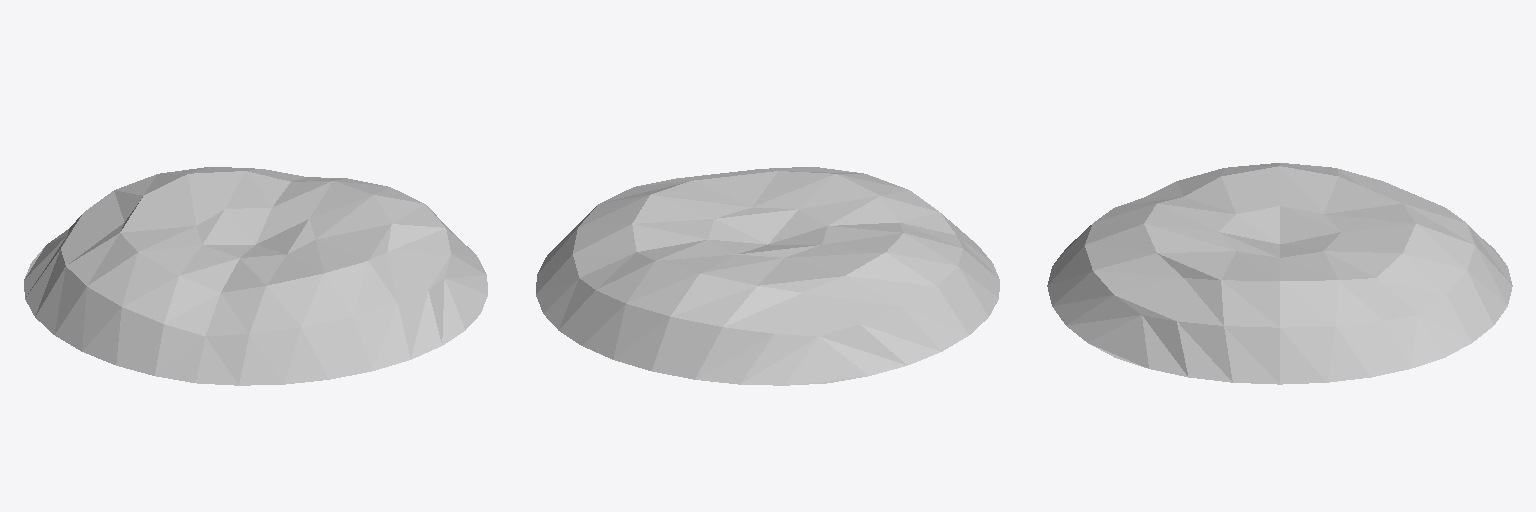
The model's file is vortex mesh.obj.
The picture shows the model from 3 angles: view 1: azimuth 30°, elevation 25°; view 2: azimuth 150°, elevation 25°; view 3: azimuth 270°, elevation 25°; orthographic projection.
Parts seen in each view (by area): view 1: Plane; view 2: Plane; view 3: Plane.
Part boxes in pixels (bbox=[...]): Plane: bbox=[24, 167, 487, 385]; Plane: bbox=[536, 167, 999, 385]; Plane: bbox=[1047, 163, 1512, 384].
Size of the model in its own units: 1.77 by 0.2715 by 1.77.